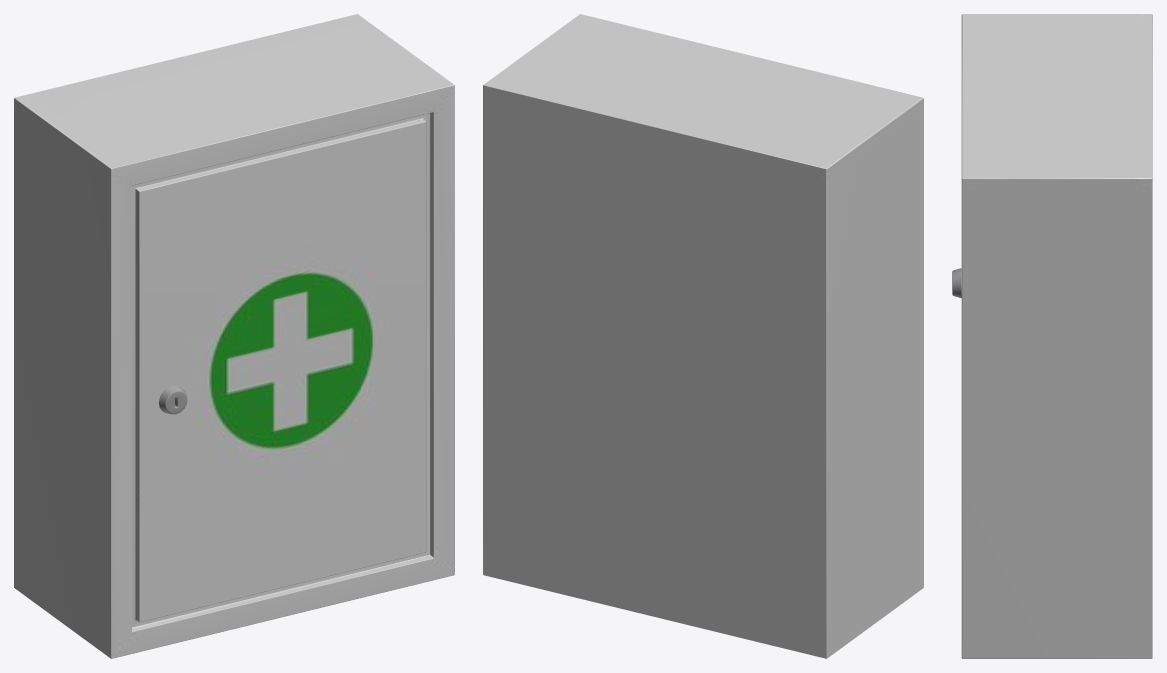
File: cupboard.glb
3 renders of one model, left to right at view 1: azimuth 30°, elevation 25°; view 2: azimuth 150°, elevation 25°; view 3: azimuth 270°, elevation 25°, orthographic. The views are drawn at different scales.
Visible parts, largest first — view 1: MedicineWallCupboard; view 2: MedicineWallCupboard; view 3: MedicineWallCupboard.
Boxes of the visible parts, left/top/right/bottom form: MedicineWallCupboard: left=14, top=14, right=454, bottom=658; MedicineWallCupboard: left=483, top=14, right=923, bottom=658; MedicineWallCupboard: left=952, top=14, right=1152, bottom=658.
Size of the model in its own units: 0.4855 by 0.661 by 0.2493.
Materials: 1 (1 with a texture image).
